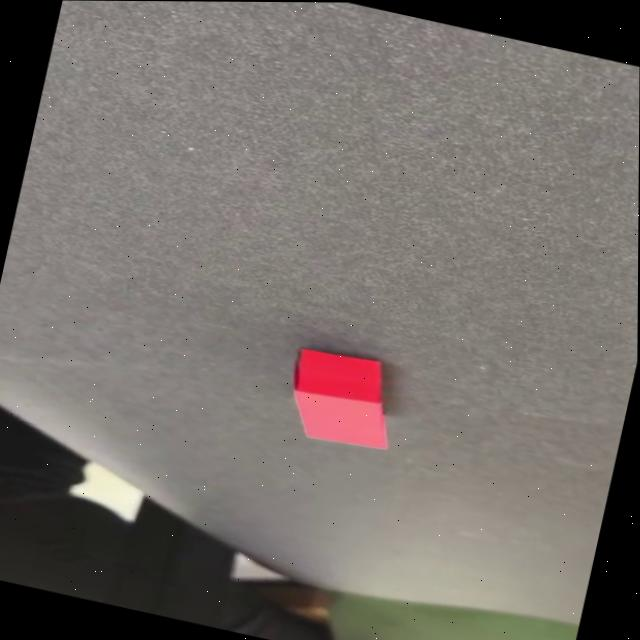red block: (277, 341, 404, 455)
